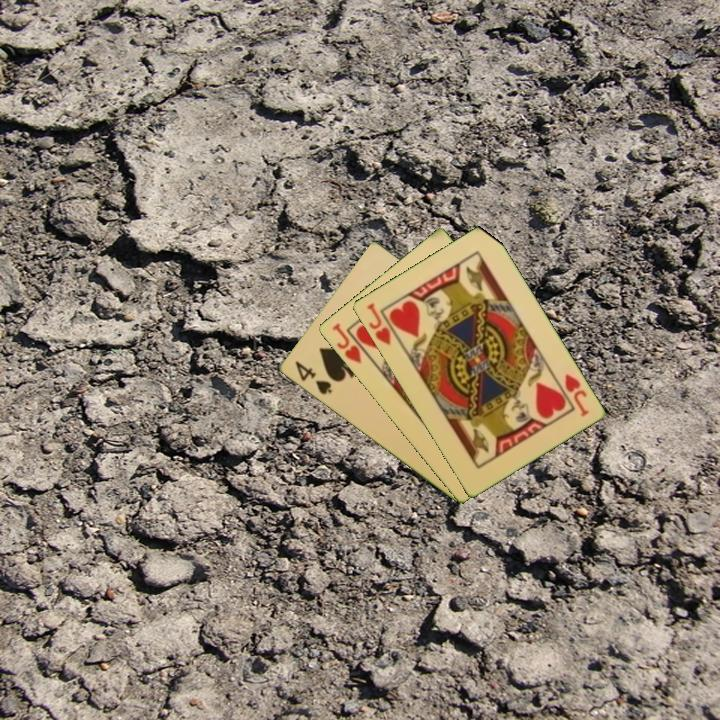4s: (291, 357, 335, 398)
Jh: (328, 319, 364, 366), (560, 370, 591, 419), (363, 299, 393, 348)
